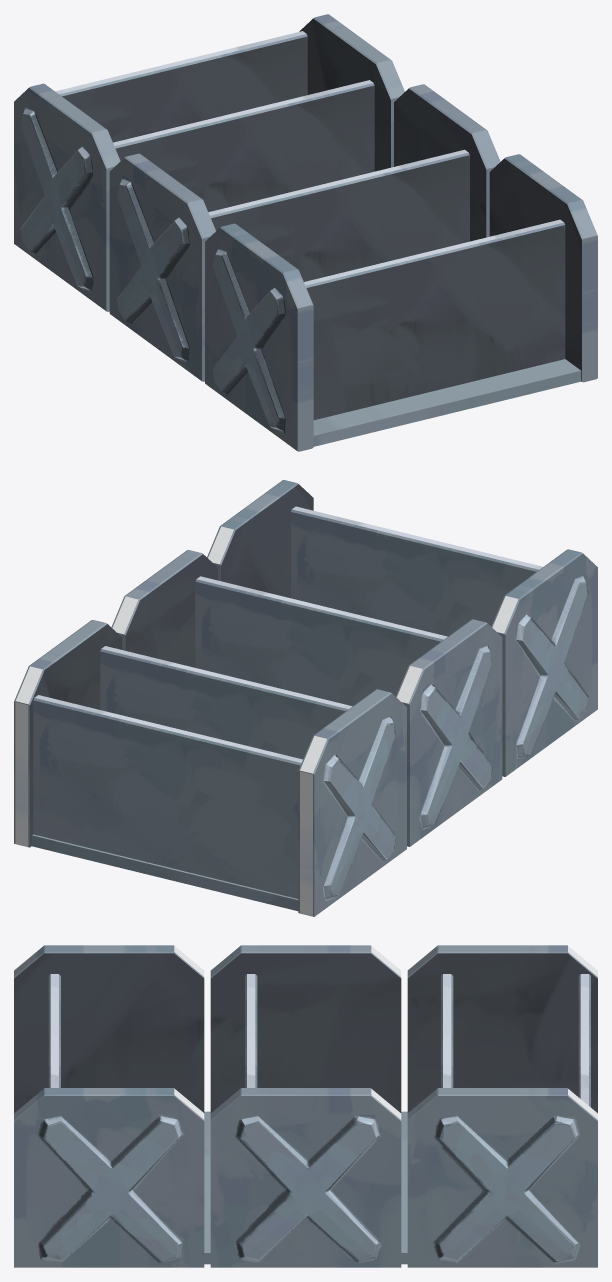
Rendered from shelf 2_ver2.fbx.
The picture shows the model from 3 angles, top to bottom: view 1: azimuth 30°, elevation 25°; view 2: azimuth 150°, elevation 25°; view 3: azimuth 270°, elevation 25°; orthographic projection. The views are drawn at different scales.
Visible parts, largest first — view 1: Cube.016; view 2: Cube.016; view 3: Cube.016.
Boxes of the visible parts, box(x1,y1,x2,y2) form: Cube.016: box(14, 14, 597, 451); Cube.016: box(14, 480, 597, 916); Cube.016: box(14, 945, 597, 1267).
Bounding box in the file's own units: 1900 × 983 × 3003.
Materials: 1 (1 with a texture image).
